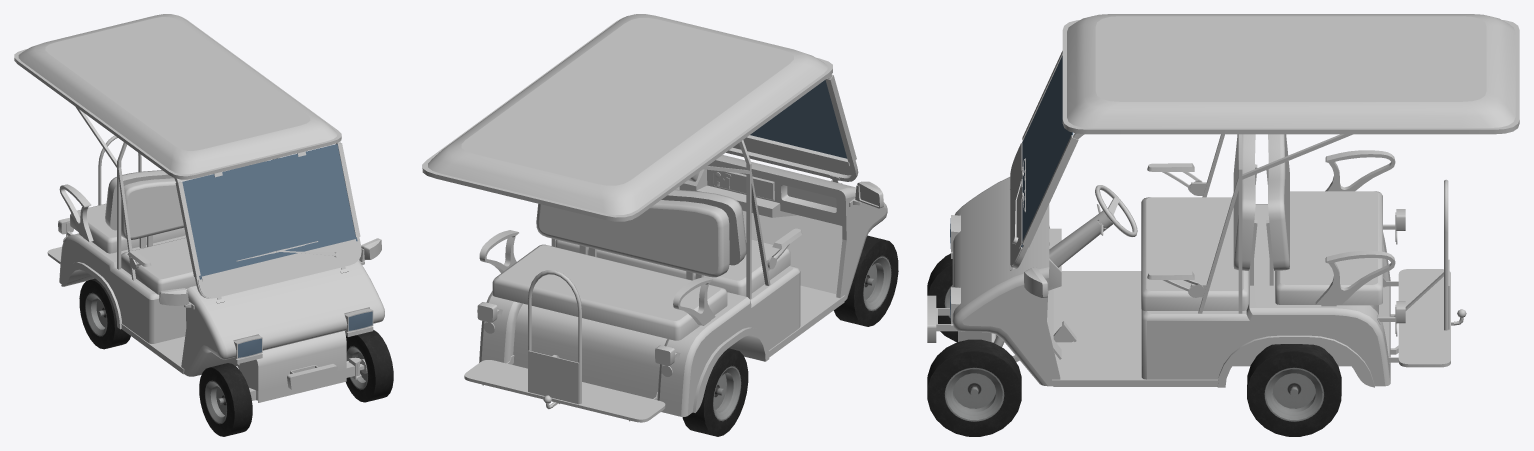
The model's file is GolfCart_4.FBX.
3 views of the same model, side by side, from view 1: azimuth 30°, elevation 25°; view 2: azimuth 150°, elevation 25°; view 3: azimuth 270°, elevation 25° (orthographic). The views are drawn at different scales.
Visible parts, largest first — view 1: GolfCart, GolfCart_Wheel_Front_Right, GolfCart_Wheel_Front_Left, GolfCart_Wheel_Rear_Right; view 2: GolfCart, GolfCart_Wheel_Front_Right, GolfCart_Wheel_Rear_Right; view 3: GolfCart, GolfCart_Wheel_Front_Left, GolfCart_Wheel_Rear_Left, GolfCart_Wheel_Front_Right.
Part boxes in pixels (box(x1,y1,x2,y2)): GolfCart: box(14, 14, 384, 402); GolfCart_Wheel_Front_Right: box(199, 363, 252, 436); GolfCart_Wheel_Front_Left: box(346, 330, 393, 402); GolfCart_Wheel_Rear_Right: box(79, 278, 130, 349); GolfCart: box(422, 14, 887, 422); GolfCart_Wheel_Front_Right: box(834, 235, 898, 326); GolfCart_Wheel_Rear_Right: box(682, 348, 748, 436); GolfCart: box(927, 14, 1519, 387); GolfCart_Wheel_Front_Left: box(927, 339, 1021, 436); GolfCart_Wheel_Rear_Left: box(1247, 344, 1341, 436); GolfCart_Wheel_Front_Right: box(927, 253, 996, 341).
Bounding box in the file's own units: 178 × 186 × 307.
